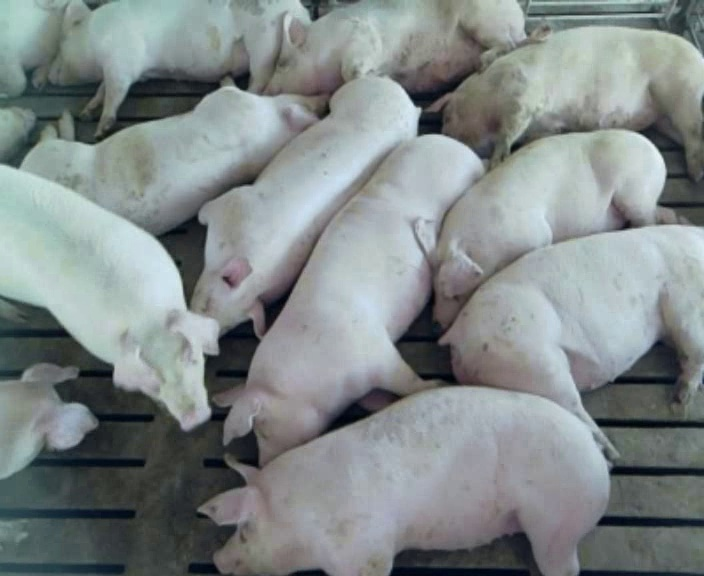pig: (212, 135, 481, 465), (199, 387, 607, 574), (440, 225, 703, 458), (191, 76, 418, 334), (413, 130, 678, 327), (21, 76, 327, 234), (433, 27, 703, 180), (49, 1, 299, 136), (265, 2, 526, 93), (0, 107, 35, 161)
